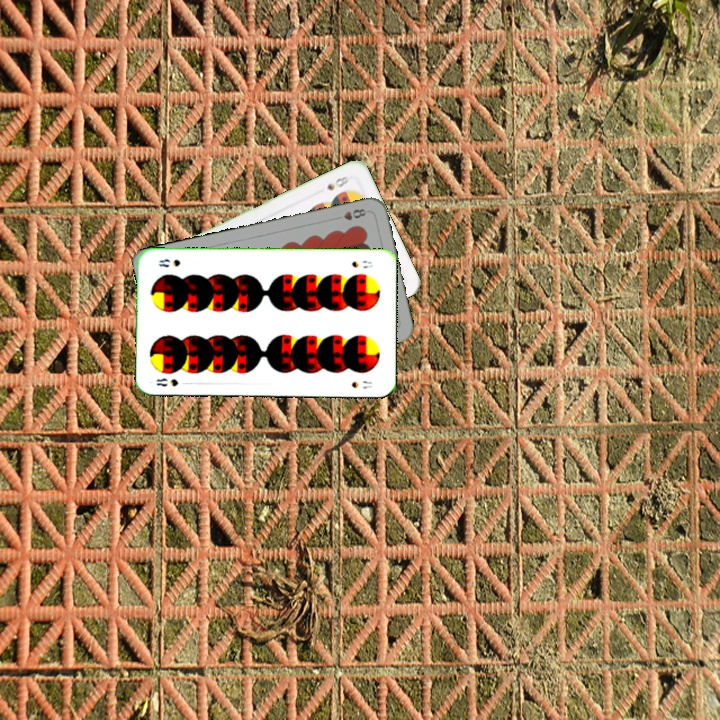H8: (339, 205, 368, 223)
S8: (323, 172, 351, 193), (152, 374, 180, 389), (348, 256, 375, 271)
